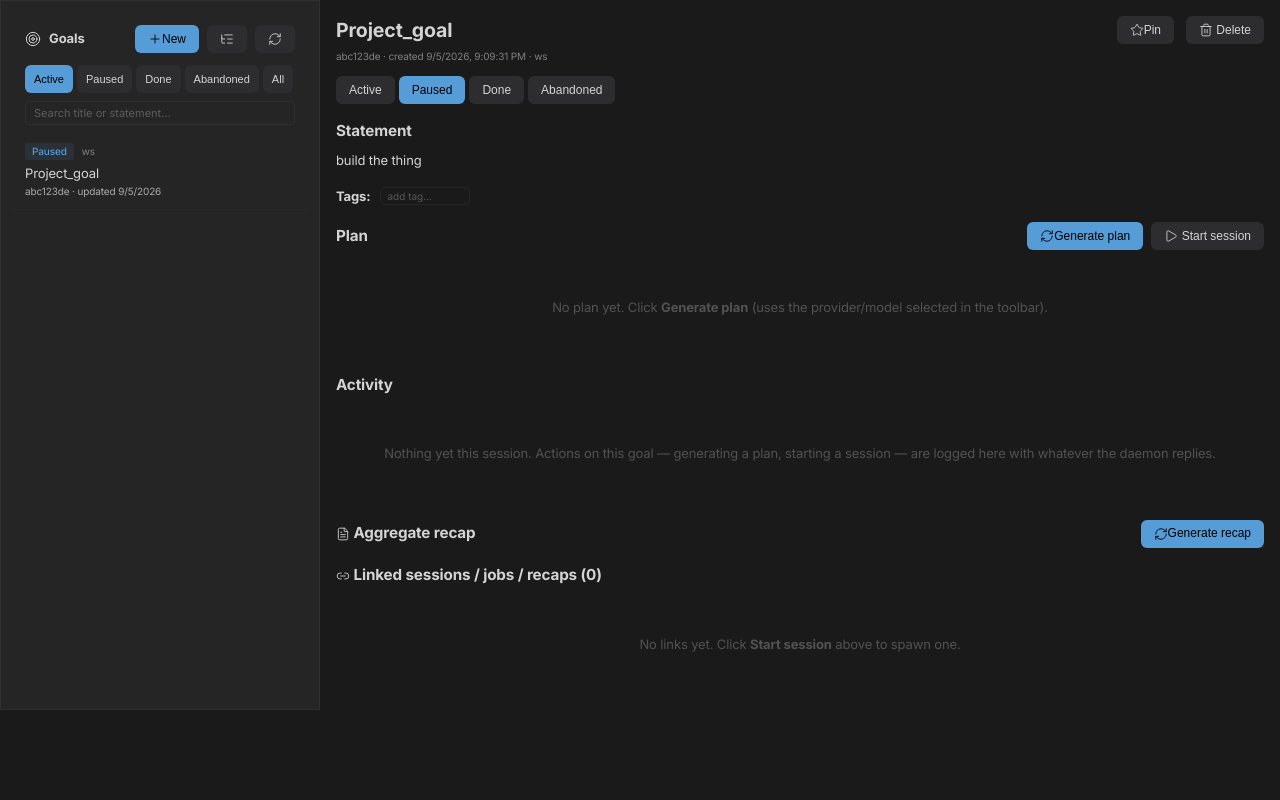
GoalPanel activity log › does not claim "no plan yet" after an attempt failed
The width and height of the screenshot is (1280, 800).
Expected: the text "build the thing" is shown, [336,152,422,168]
Step 1. Click the button "Generate plan" → point(1085, 236), box [1027,222,1143,250]
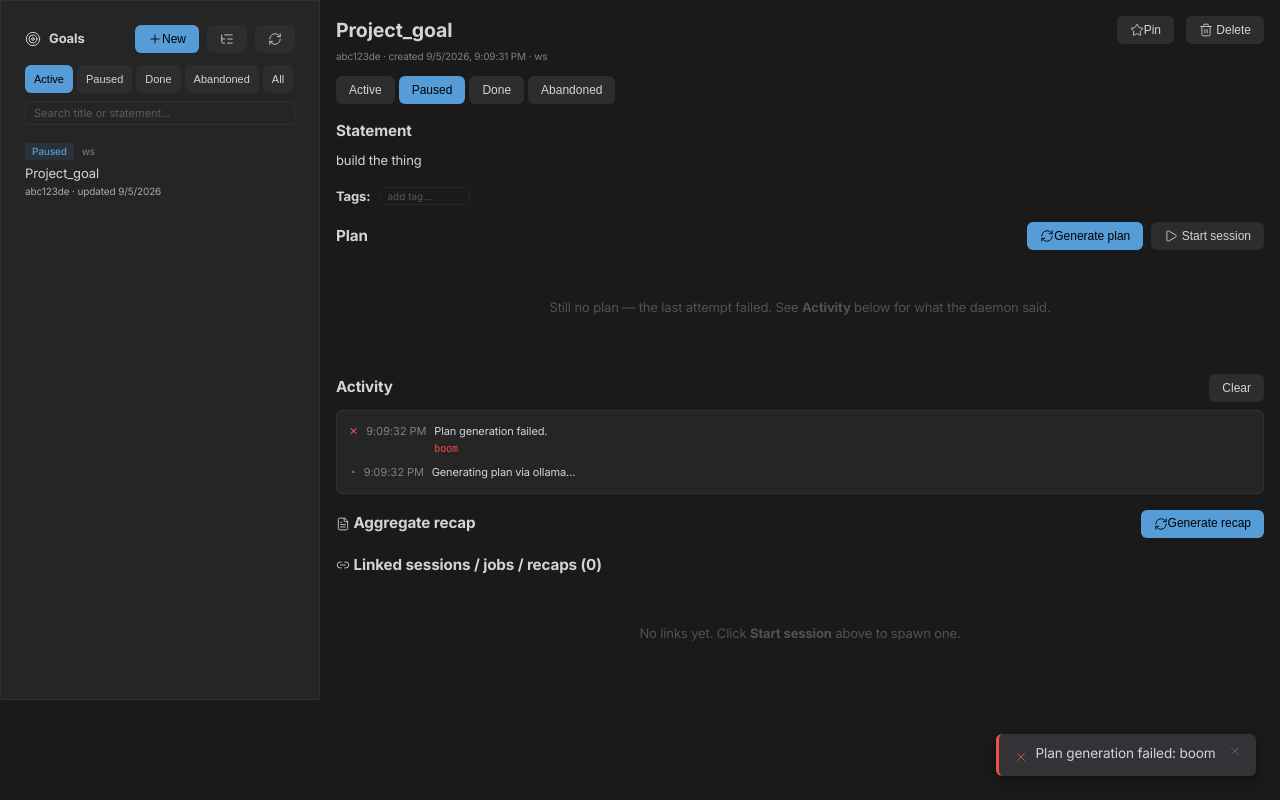
Expected: the text "the last attempt failed" is shown, [550,299,802,315]
